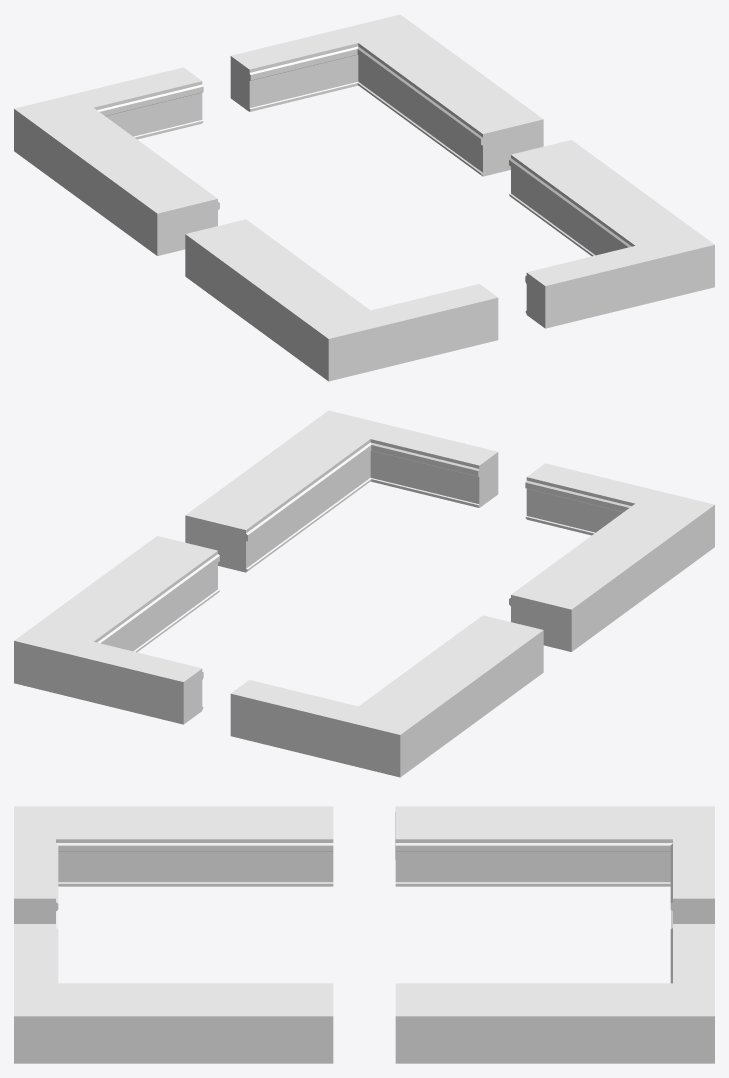
The model's file is collisionroomtest.obj.
3 renders of one model, top to bottom at view 1: azimuth 30°, elevation 25°; view 2: azimuth 150°, elevation 25°; view 3: azimuth 270°, elevation 25°, orthographic. The views are drawn at different scales.
Parts seen in each view (by area): view 1: room; view 2: room; view 3: room.
Boxes of the visible parts, left/top/right/bottom form: room: left=14, top=14, right=714, bottom=381; room: left=14, top=410, right=714, bottom=777; room: left=14, top=806, right=714, bottom=1063.
Size of what is drawn, in the model's own units: 60.21 by 6.33 by 84.94.
